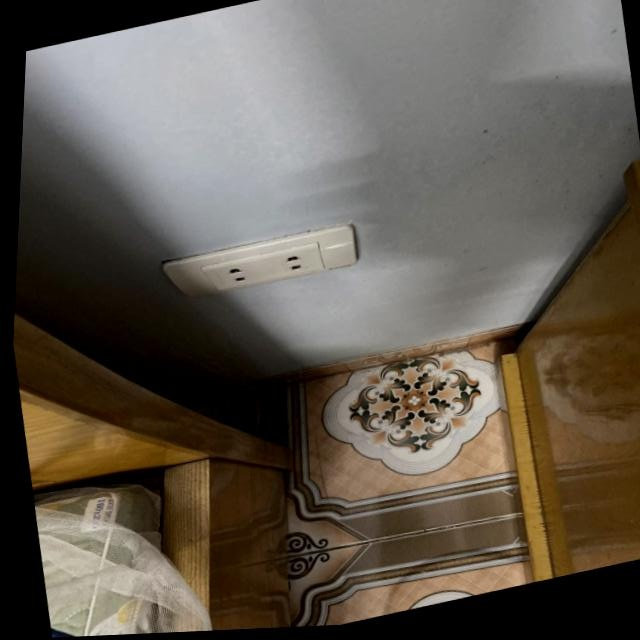outlet: (158, 221, 361, 309)
